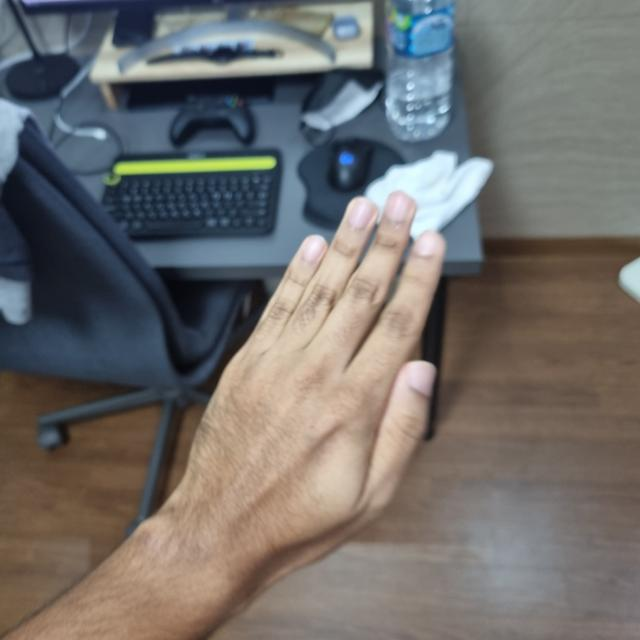Paper: (182, 196, 441, 565)
